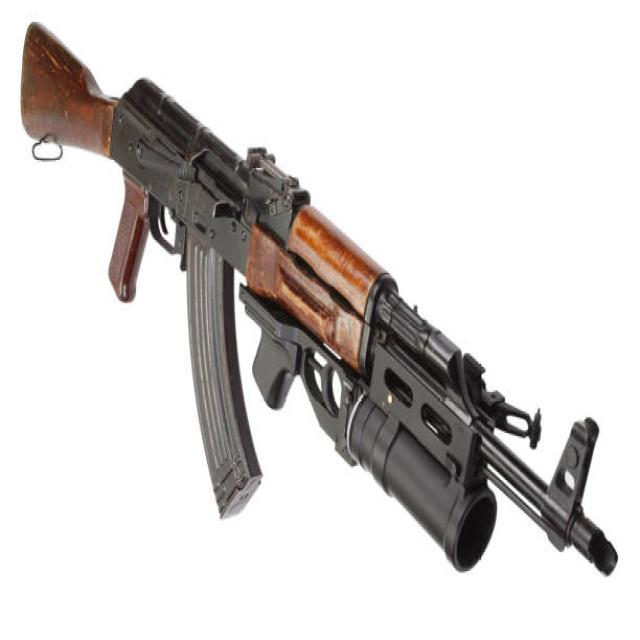rifle: (14, 17, 631, 583)
